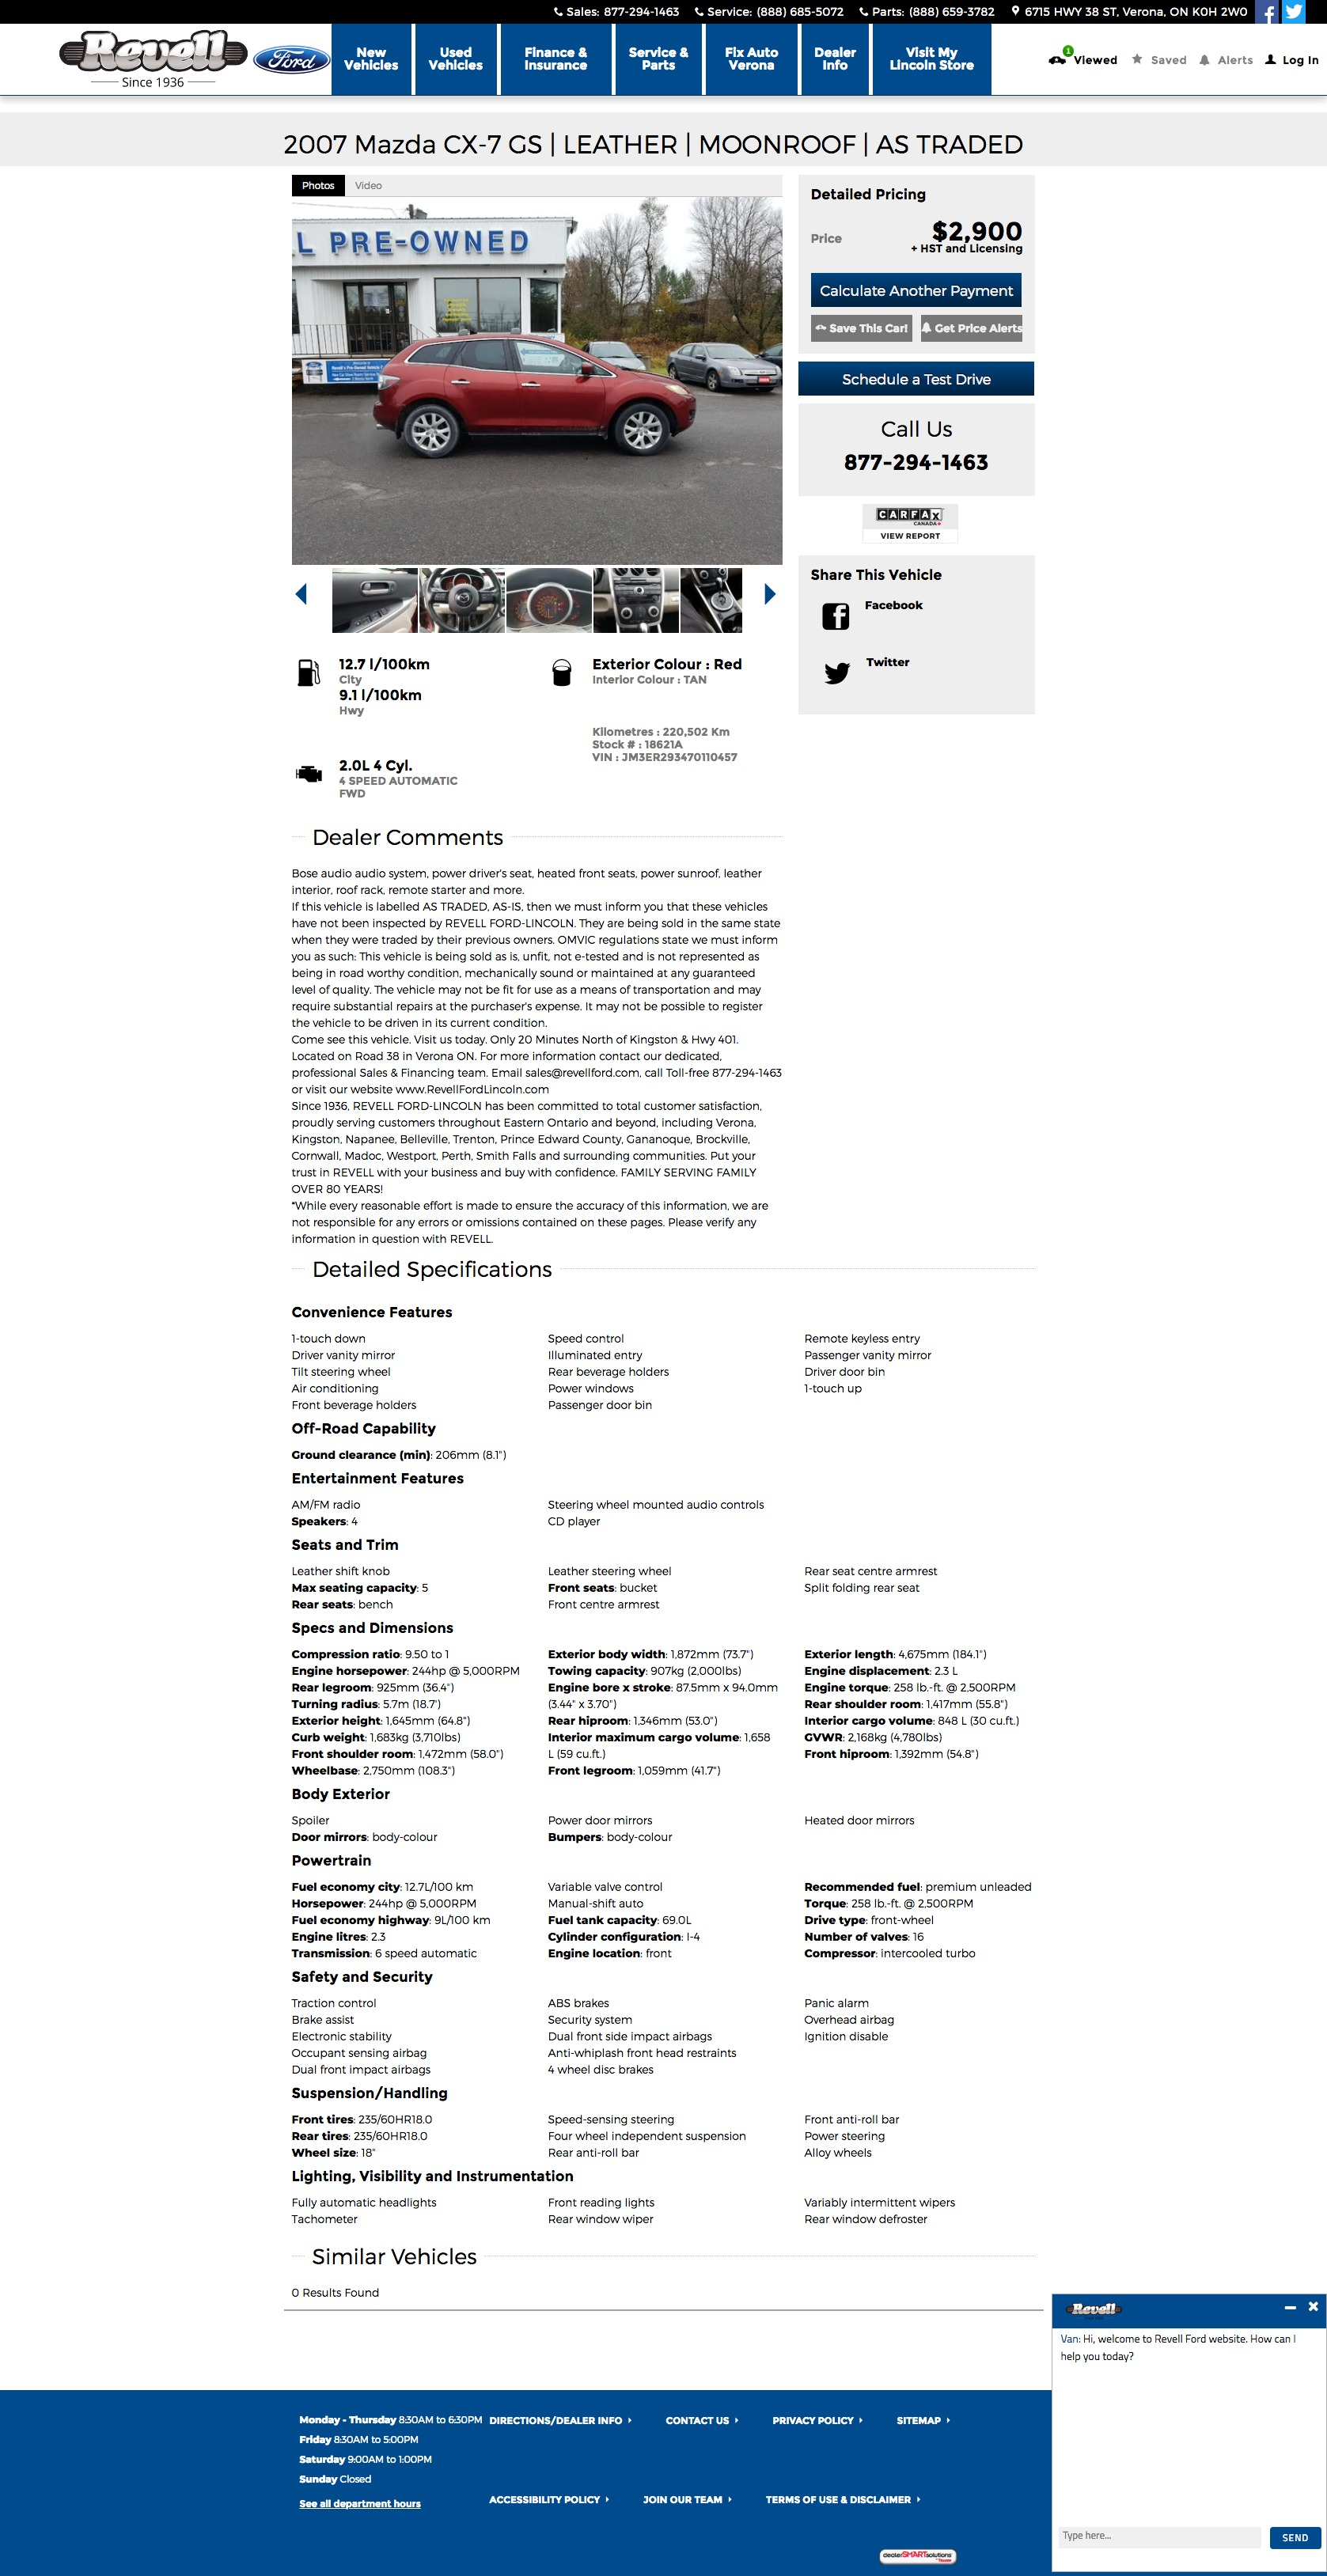car: (763, 584, 777, 606)
